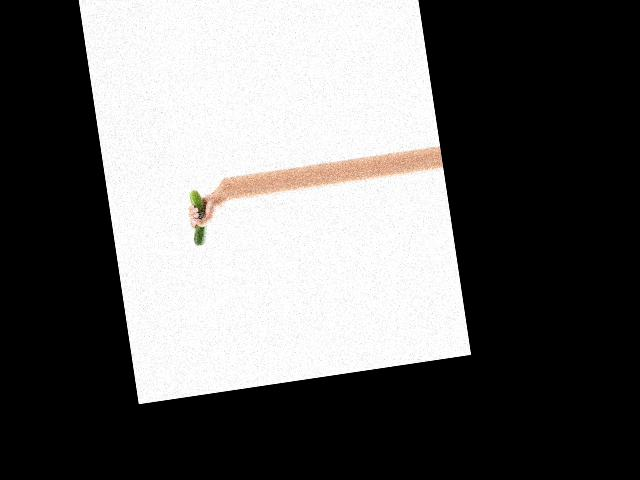cucumber: (186, 189, 210, 246)
